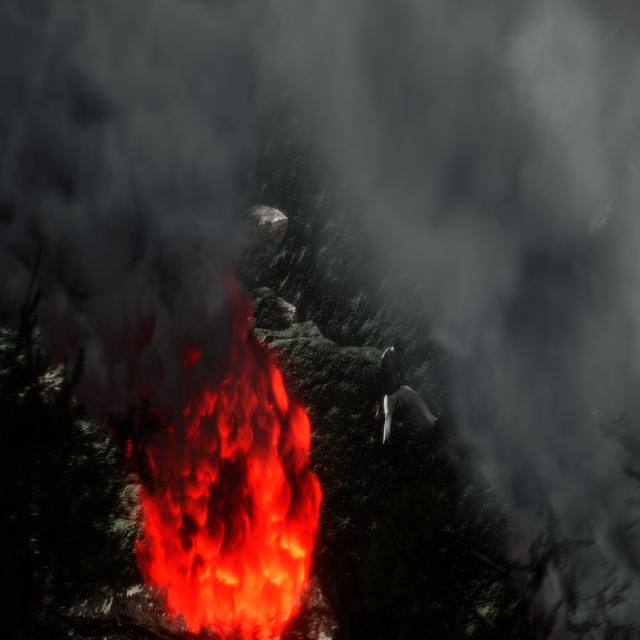Human: (372, 331, 449, 460)
